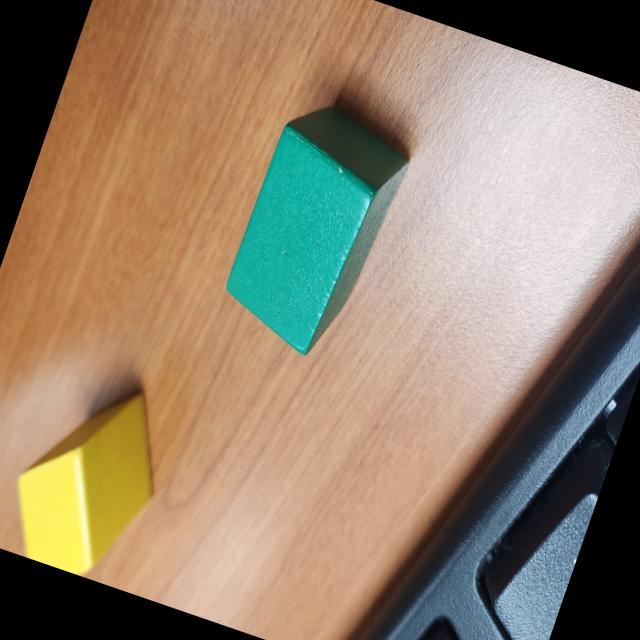green: (212, 93, 418, 364)
yellow: (0, 361, 183, 589)
